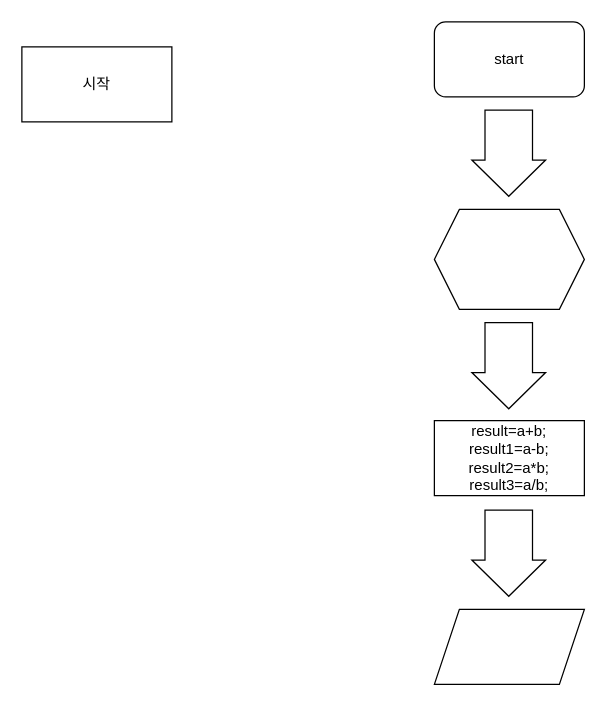
Some shapes in this 606 by 706 pixel diagram are drawn without their labels. The centre of each missing label's shape, as x and y in pixels:
a=3; b=6;: point 508,258
print("result"); print("result1"); print("result2"); print("result3");: point 508,646
